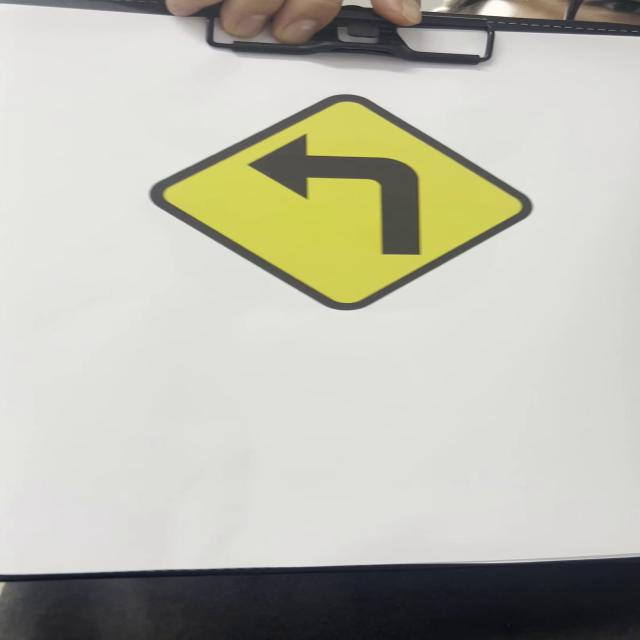left: (142, 92, 536, 314)
